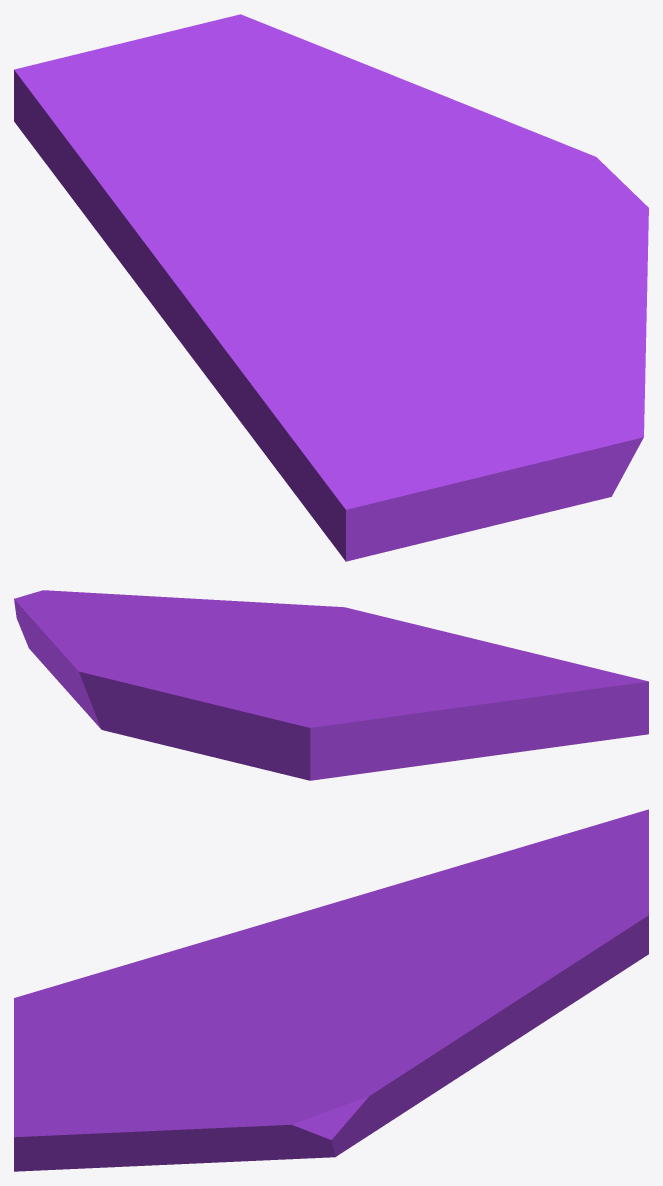
The model's file is Window_15_0_chunks.fbx.
3 renders of one model, top to bottom at view 1: azimuth 30°, elevation 25°; view 2: azimuth 150°, elevation 25°; view 3: azimuth 270°, elevation 25°, orthographic. The views are drawn at different scales.
Parts seen in each view (by area): view 1: Window_15_0_2, Window_15_0_10, Window_15_0_3, Window_15_0_9, Window_15_0_12, Window_15_0_16, Window_15_0_6, Window_15_0_7, Window_15_0_4, Window_15_0_18, Window_15_0_19, Window_15_0_14 (+7 smaller); view 2: Window_15_0_10, Window_15_0_2, Window_15_0_16, Window_15_0_3, Window_15_0_18, Window_15_0_9, Window_15_0_6, Window_15_0_7, Window_15_0_19, Window_15_0_4, Window_15_0_5, Window_15_0_12 (+6 smaller); view 3: Window_15_0_3, Window_15_0_2, Window_15_0_6, Window_15_0_10, Window_15_0_7, Window_15_0_9, Window_15_0_4, Window_15_0_5, Window_15_0_14, Window_15_0_16, Window_15_0_12, Window_15_0_17 (+7 smaller).
Boxes of the visible parts, left/top/right/bottom form: Window_15_0_2: left=250, top=308, right=482, bottom=561; Window_15_0_10: left=14, top=14, right=326, bottom=166; Window_15_0_3: left=426, top=242, right=647, bottom=388; Window_15_0_9: left=251, top=130, right=410, bottom=342; Window_15_0_12: left=413, top=409, right=638, bottom=545; Window_15_0_16: left=140, top=251, right=305, bottom=433; Window_15_0_6: left=482, top=129, right=648, bottom=268; Window_15_0_7: left=265, top=24, right=525, bottom=170; Window_15_0_4: left=342, top=148, right=560, bottom=258; Window_15_0_18: left=21, top=103, right=176, bottom=229; Window_15_0_19: left=96, top=191, right=217, bottom=287; Window_15_0_14: left=516, top=376, right=644, bottom=446; Window_15_0_10: left=79, top=659, right=335, bottom=780; Window_15_0_2: left=353, top=640, right=648, bottom=747; Window_15_0_16: left=404, top=679, right=557, bottom=762; Window_15_0_3: left=124, top=594, right=373, bottom=649; Window_15_0_18: left=293, top=695, right=401, bottom=779; Window_15_0_9: left=168, top=647, right=457, bottom=679; Window_15_0_6: left=14, top=590, right=169, bottom=675; Window_15_0_7: left=27, top=613, right=157, bottom=666; Window_15_0_19: left=383, top=692, right=463, bottom=769; Window_15_0_4: left=113, top=614, right=251, bottom=657; Window_15_0_5: left=48, top=649, right=181, bottom=718; Window_15_0_12: left=356, top=610, right=520, bottom=650; Window_15_0_3: left=73, top=1019, right=315, bottom=1165; Window_15_0_2: left=14, top=947, right=260, bottom=1055; Window_15_0_6: left=218, top=1042, right=447, bottom=1160; Window_15_0_10: left=460, top=809, right=648, bottom=979; Window_15_0_7: left=386, top=927, right=629, bottom=1072; Window_15_0_9: left=230, top=930, right=482, bottom=1011; Window_15_0_4: left=257, top=972, right=455, bottom=1085; Window_15_0_5: left=442, top=914, right=648, bottom=1087; Window_15_0_14: left=14, top=1071, right=137, bottom=1170; Window_15_0_16: left=185, top=895, right=367, bottom=967; Window_15_0_12: left=14, top=1055, right=81, bottom=1171; Window_15_0_17: left=279, top=918, right=446, bottom=959.
Size of the model in its own units: 919 by 482 by 1165.
